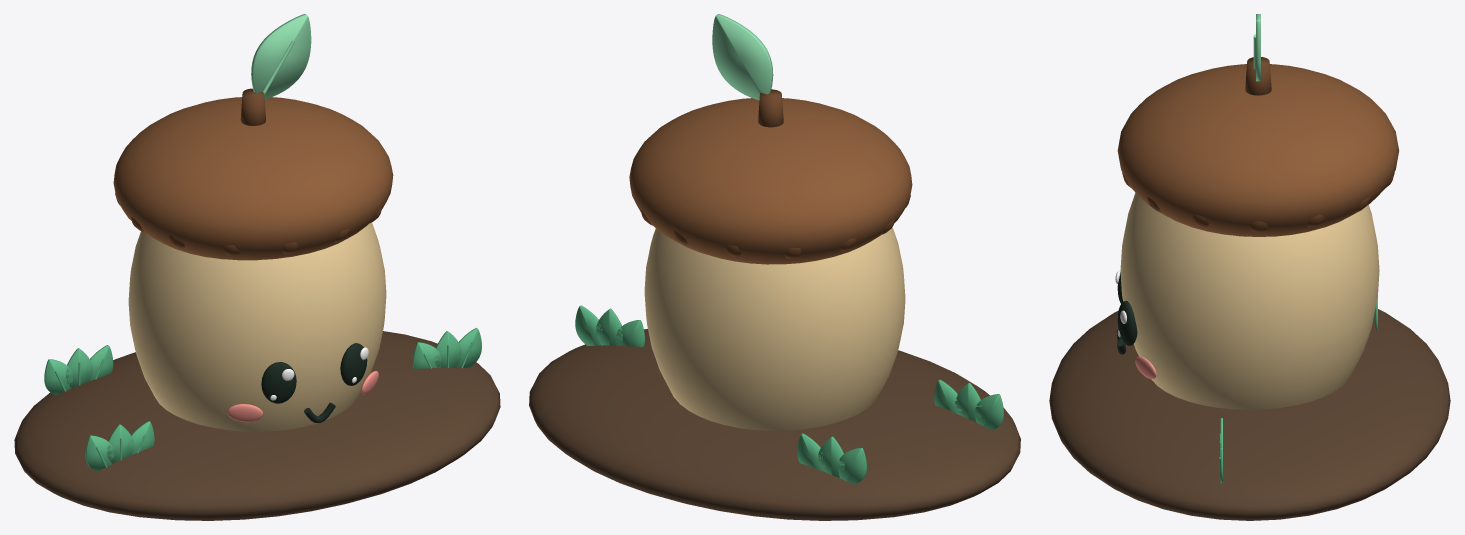
Rendered from sprig-0.glb.
The picture shows the model from 3 angles, left to right: view 1: azimuth 30°, elevation 25°; view 2: azimuth 150°, elevation 25°; view 3: azimuth 270°, elevation 25°; orthographic projection. The views are drawn at different scales.
Visible parts, largest first — view 1: Soil, Acorn, Cap, Sprout leaf, Eye, Stem, Eye.001, Grass.006, Grass, Grass.005, Grass.007, Grass.004 (+4 smaller); view 2: Soil, Acorn, Cap, Sprout leaf, Stem, Grass.006, Grass, Grass.005, Grass.004, Grass.007, Grass.001, Grass.008 (+2 smaller); view 3: Soil, Acorn, Cap, Stem, Eye.001.
Boxes of the visible parts, bbox=[...] form: Soil: bbox=[14, 331, 500, 520]; Acorn: bbox=[128, 222, 386, 431]; Cap: bbox=[113, 97, 393, 260]; Sprout leaf: bbox=[251, 14, 311, 99]; Eye: bbox=[261, 362, 296, 403]; Stem: bbox=[240, 88, 265, 125]; Eye.001: bbox=[340, 343, 367, 385]; Grass.006: bbox=[44, 359, 72, 395]; Grass: bbox=[85, 435, 114, 471]; Grass.005: bbox=[454, 328, 481, 368]; Grass.007: bbox=[66, 348, 92, 388]; Grass.004: bbox=[435, 331, 461, 367]; Soil: bbox=[529, 328, 1020, 520]; Acorn: bbox=[644, 227, 905, 430]; Cap: bbox=[629, 98, 912, 264]; Sprout leaf: bbox=[712, 14, 773, 100]; Stem: bbox=[758, 89, 783, 127]; Grass.006: bbox=[838, 447, 866, 484]; Grass: bbox=[975, 394, 1003, 430]; Grass.005: bbox=[575, 305, 602, 345]; Grass.004: bbox=[596, 308, 622, 345]; Grass.007: bbox=[818, 436, 844, 477]; Grass.001: bbox=[955, 382, 981, 421]; Grass.008: bbox=[797, 433, 824, 471]; Soil: bbox=[1049, 309, 1450, 520]; Acorn: bbox=[1120, 193, 1379, 409]; Cap: bbox=[1117, 64, 1399, 236]; Stem: bbox=[1245, 57, 1271, 95]; Eye.001: bbox=[1117, 300, 1137, 345].
Size of the model in its own units: 1.9 by 1.76 by 1.43.
